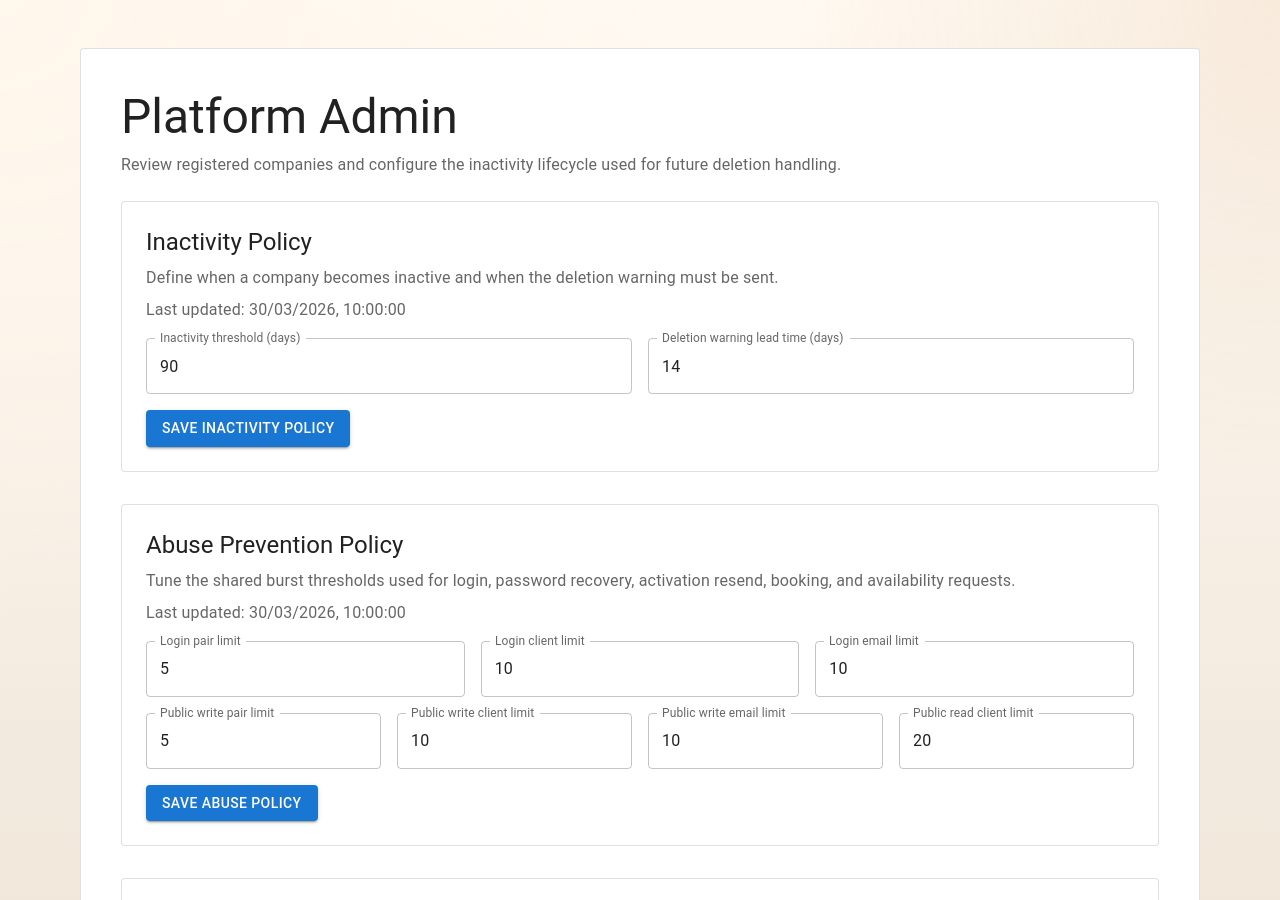
it: PlatformAdminCompanyListScreen › saves a valid abuse policy update
Replace the text in the number field labelled "Login pair limit" with "6": (305,668) [146,640,465,696]
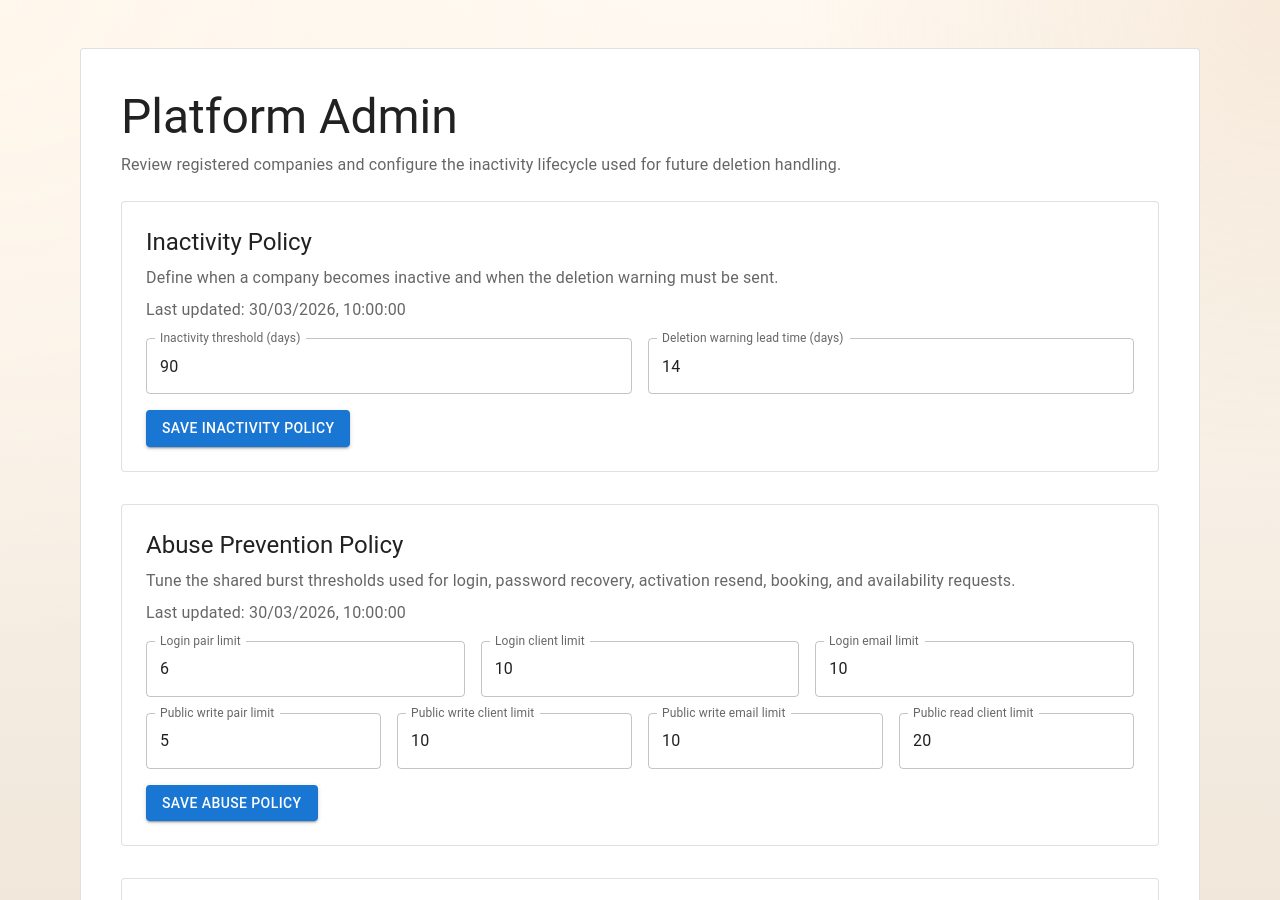
Replace the text in the number field labelled "Public read client limit" with "24": (1016,740) [899,712,1134,768]
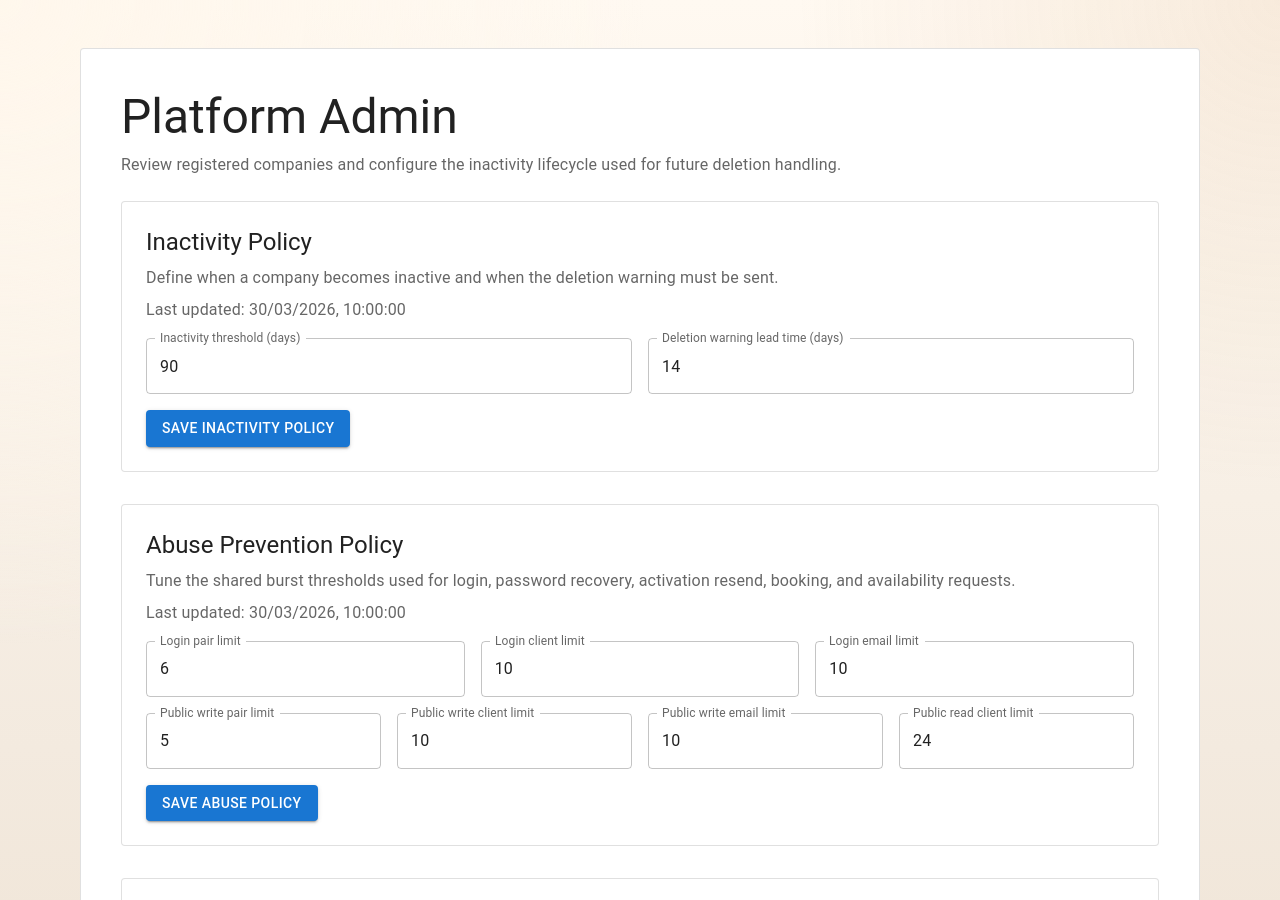
Click the button "Save abuse policy": (232,803) [146,784,318,821]
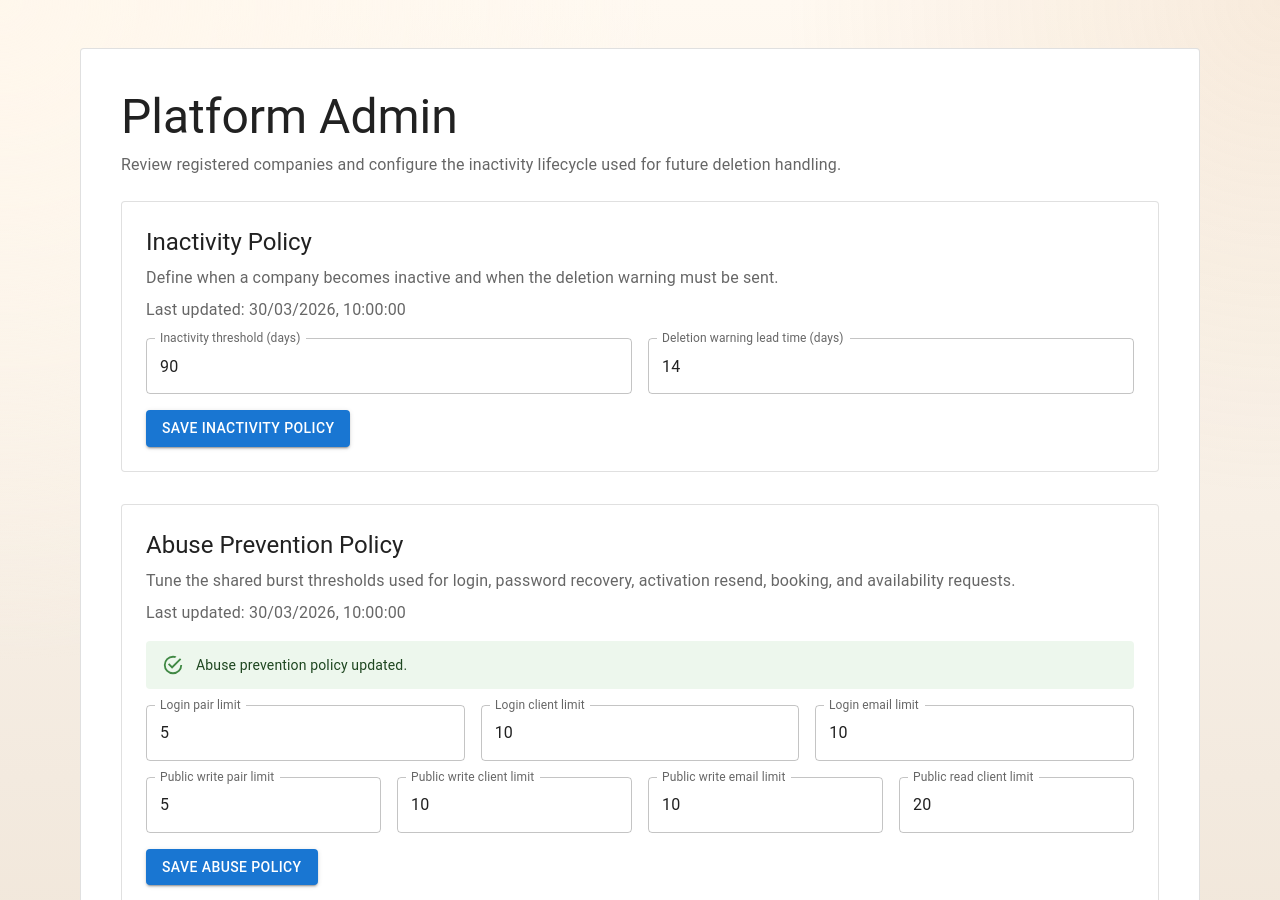
expect the text "Abuse prevention policy updated." is shown: met, box [196,656,407,672]
